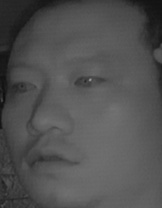eye: (72, 69, 109, 92), (8, 74, 39, 97)
mouth: (21, 142, 83, 177)
